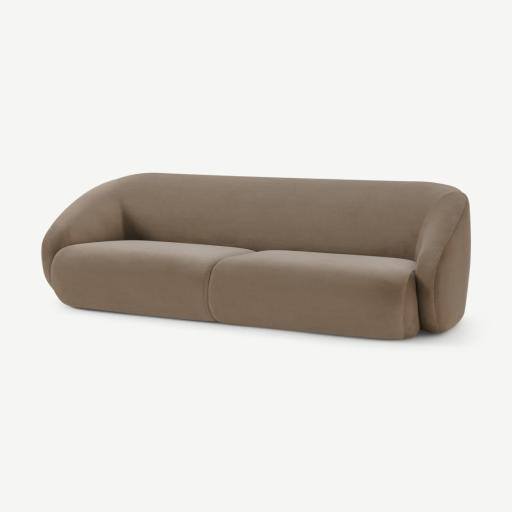back_cushion: (89, 173, 456, 259)
left_arm: (416, 190, 470, 332)
right_arm: (42, 180, 125, 289)
seat_cushion: (51, 240, 419, 339)
two-seater: (0, 0, 511, 512)
